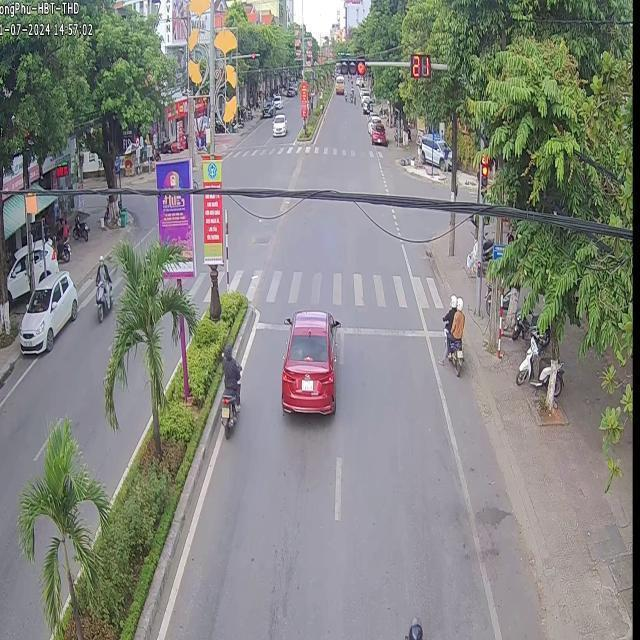car: (279, 309, 338, 411), (18, 269, 77, 352), (6, 245, 28, 302), (418, 131, 450, 169), (32, 238, 42, 285), (43, 238, 57, 271), (369, 118, 386, 144), (270, 111, 286, 136), (333, 74, 343, 92)
motobike: (438, 294, 463, 374), (219, 340, 239, 435), (514, 327, 538, 382), (94, 254, 112, 319), (509, 309, 537, 338), (528, 365, 549, 387), (552, 360, 562, 395), (540, 327, 548, 341)
red_light: (409, 53, 430, 76), (338, 56, 366, 73), (480, 153, 489, 196)
stop_line: (335, 325, 444, 336), (253, 320, 289, 327)
